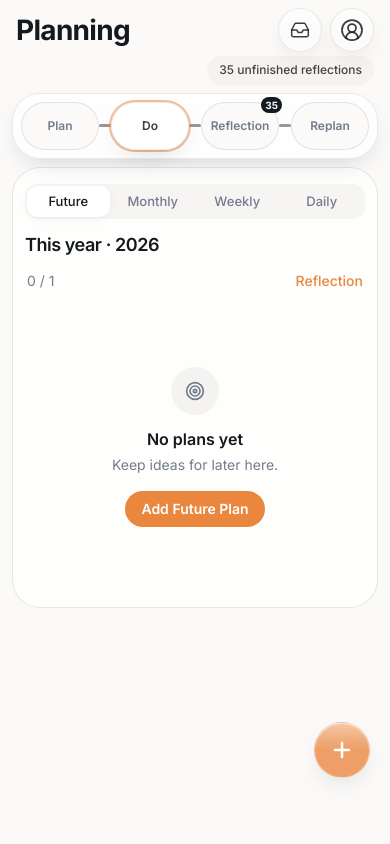
Test: Do period › shows task achievement and a completed reflection in words
The width and height of the screenshot is (390, 844).
Click the tab "Daily" at [322, 201], box left=280, top=186, right=363, bottom=217
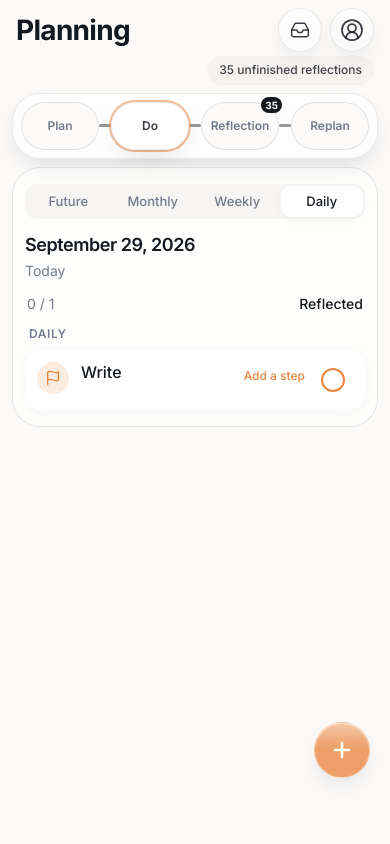
Expected: the text with test id "period-achievement" reads "0 / 1", left=27, top=295, right=54, bottom=312
Expected: the text with test id "period-reflection" reads "Reflected", left=299, top=295, right=363, bottom=312
